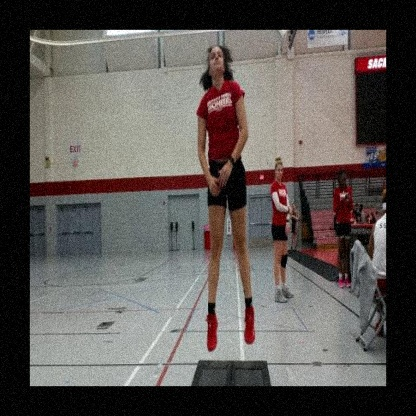lateral_flexion_right: (196, 44, 257, 352)
stance_width_normal: (196, 78, 257, 353)
